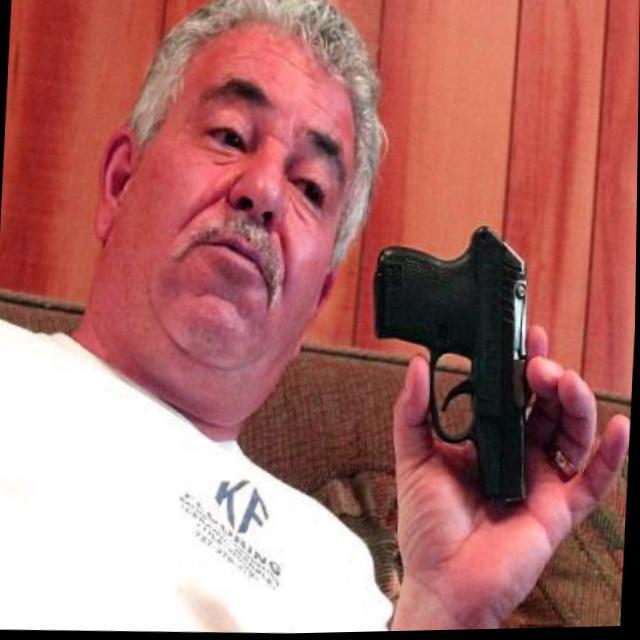weapon: (354, 205, 557, 522)
